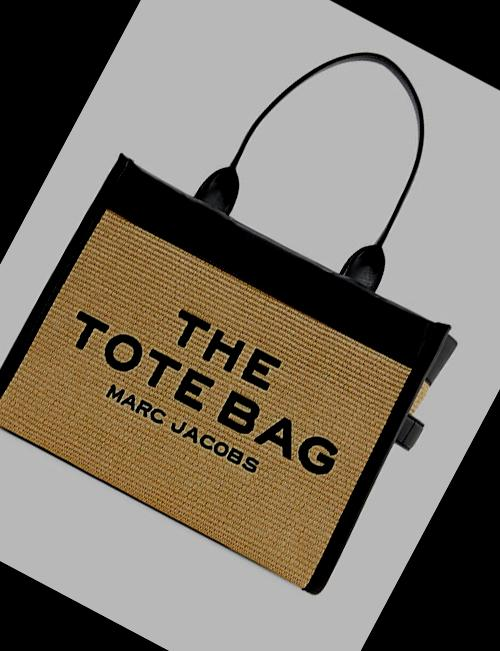MARC-JACOBS: (106, 382, 260, 474)
